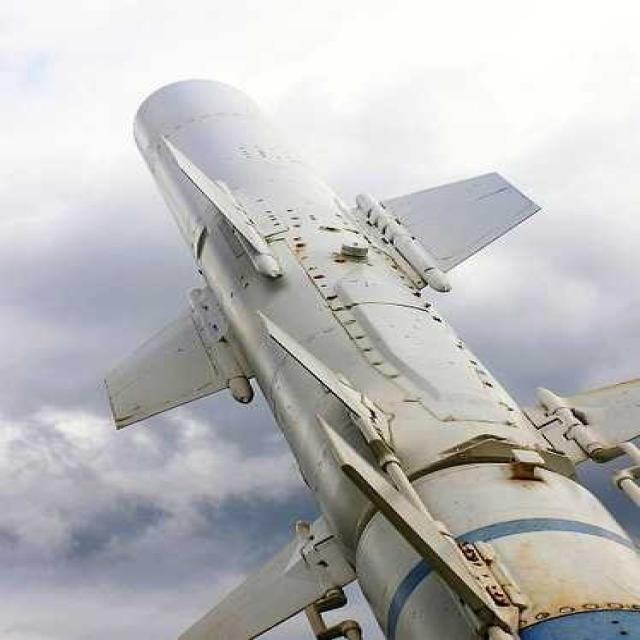missile: (106, 77, 640, 640)
